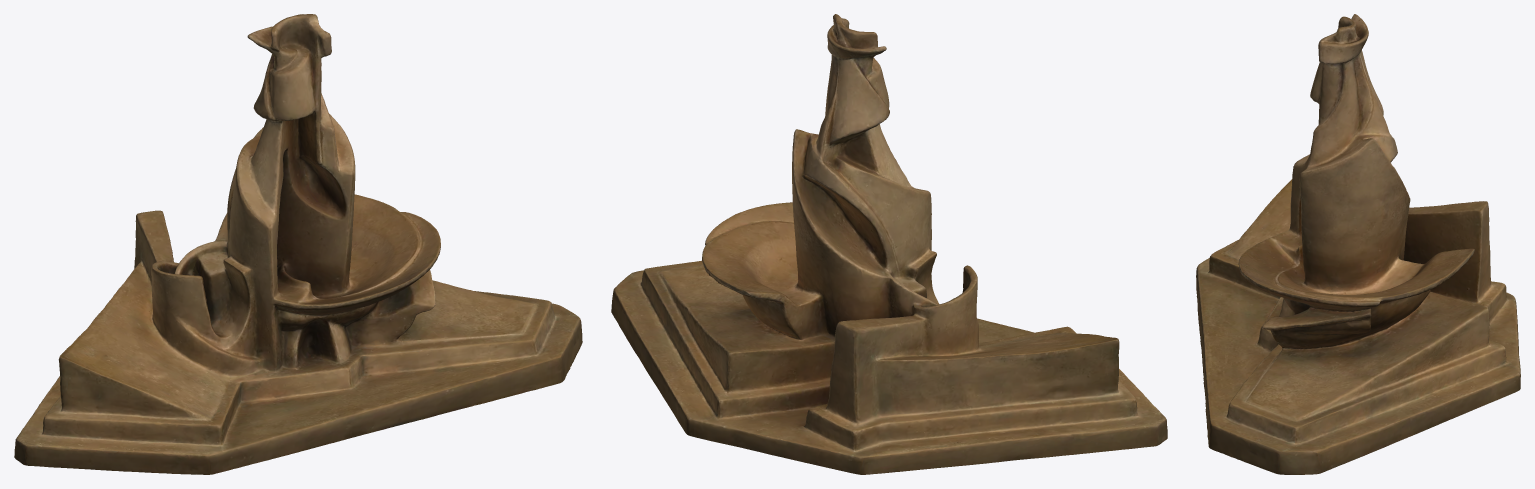
File: preview.glb
The picture shows the model from 3 angles, left to right: view 1: azimuth 30°, elevation 25°; view 2: azimuth 150°, elevation 25°; view 3: azimuth 270°, elevation 25°; orthographic projection. The views are drawn at different scales.
Parts seen in each view (by area): view 1: Polygonal_Model_1_PG_1990_38_2_TT_BoccioniBIS_n3d; view 2: Polygonal_Model_1_PG_1990_38_2_TT_BoccioniBIS_n3d; view 3: Polygonal_Model_1_PG_1990_38_2_TT_BoccioniBIS_n3d.
Part boxes in pixels (box(x1,y1,x2,y2)): Polygonal_Model_1_PG_1990_38_2_TT_BoccioniBIS_n3d: box(14, 14, 582, 474); Polygonal_Model_1_PG_1990_38_2_TT_BoccioniBIS_n3d: box(611, 14, 1167, 474); Polygonal_Model_1_PG_1990_38_2_TT_BoccioniBIS_n3d: box(1196, 14, 1520, 474).
Bounding box in the file's own units: 0.6034 × 0.38 × 0.3307.
Materials: 2 (1 with a texture image).
